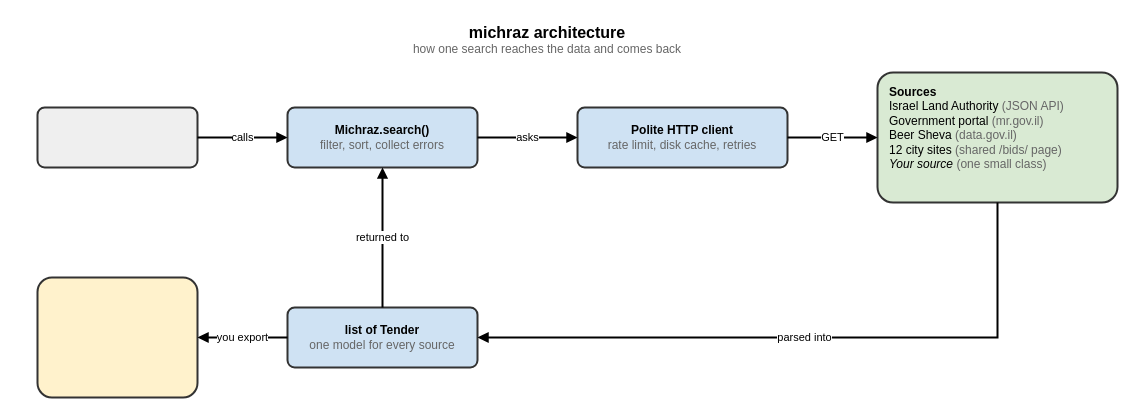
Image size: 1135x415. Some labels were removed from this diagram. The shapes that lost their labels are listed below. From the top down, each one's box as (x1, y1, x2, y2) in pixels, then its label:
(36, 106, 198, 168): You Python or terminal
(36, 276, 198, 398): Output Table in the terminal CSV (opens in Excel) JSON pandas DataFrame
